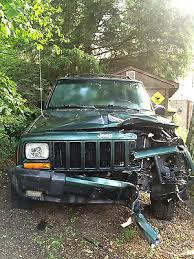Headlight-Damage: (132, 119, 176, 154)
bonnet-dent: (46, 104, 161, 131)
front-bumper-dent: (72, 173, 176, 209)
